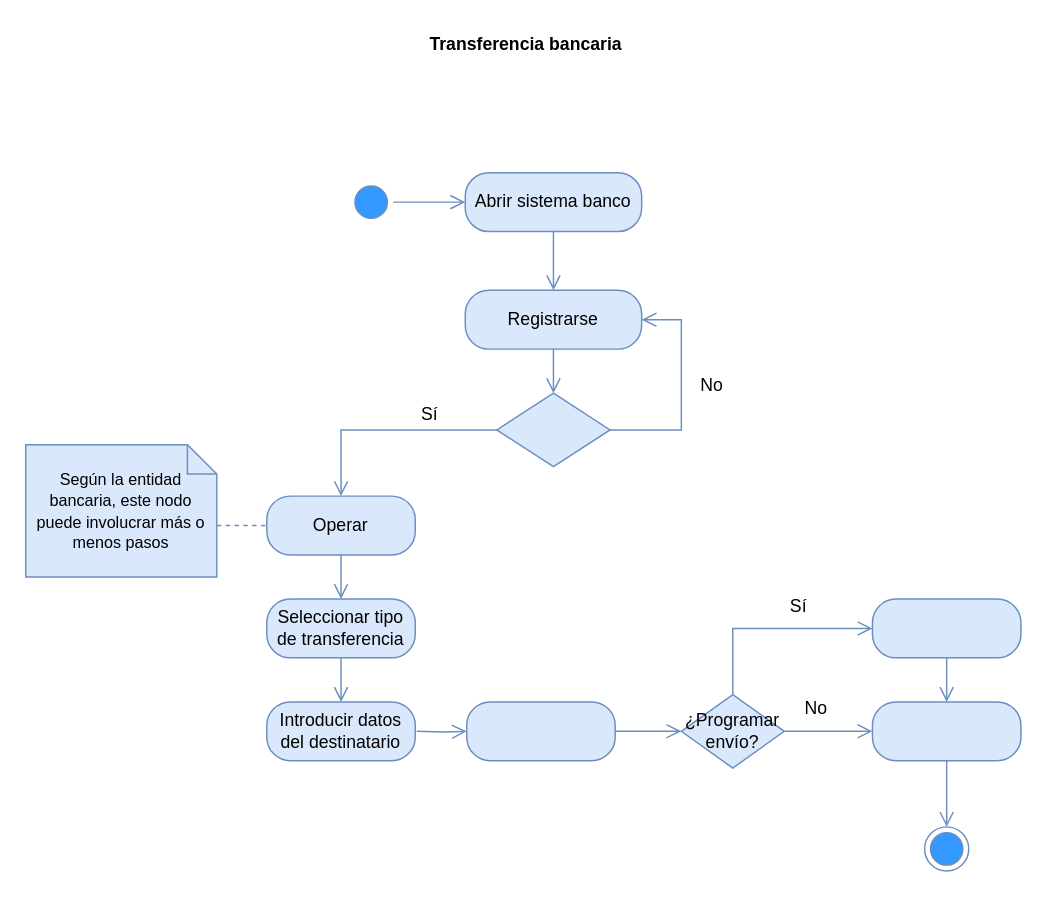
Image size: 1047x897. Some labels were removed from this diagram. The centre of each missing label's shape, as x and y in pixels:
"Confirmar movimiento" goes at pixel 946 730.
"Introducir datos temporales" goes at pixel 946 628.
"Introducir importe y concepto" goes at pixel 540 730.
"¿Datos correctos?" goes at pixel 552 429.
